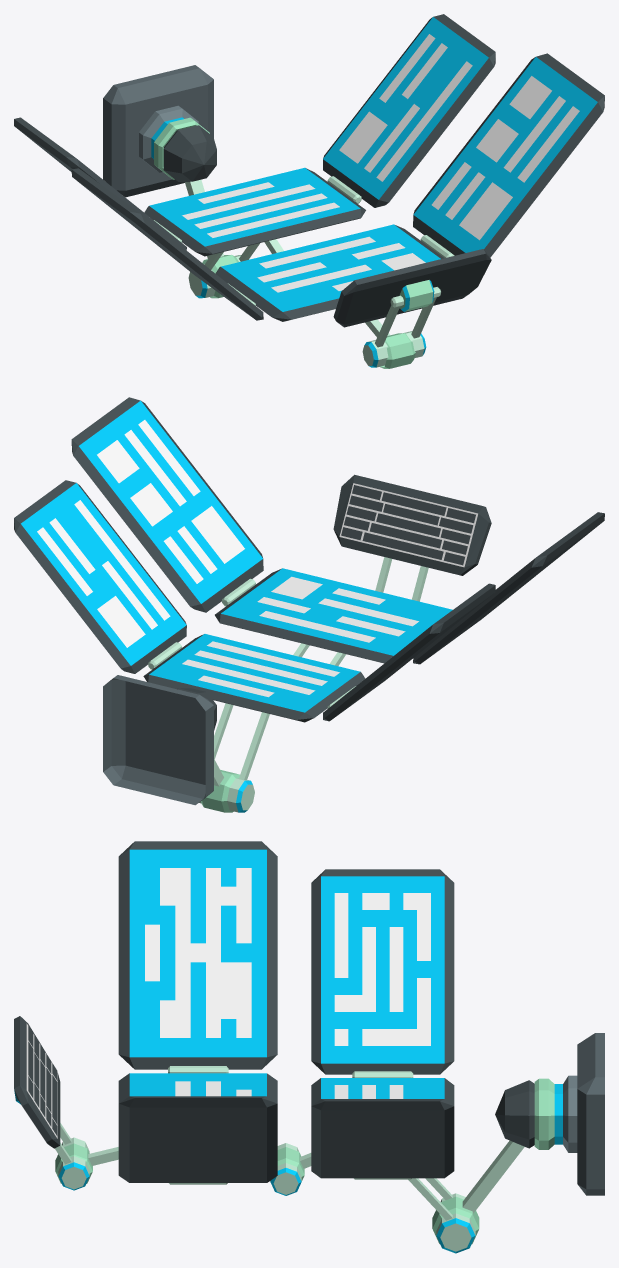
Rendered from Wall Screen 01.fbx.
3 views of the same model, one above another, from view 1: azimuth 30°, elevation 25°; view 2: azimuth 150°, elevation 25°; view 3: azimuth 270°, elevation 25° (orthographic). The views are drawn at different scales.
Visible parts, largest first — view 1: Montiors, Wall_Screen_01; view 2: Montiors, Wall_Screen_01; view 3: Montiors, Wall_Screen_01.
Boxes of the visible parts, x1,y1,x2,y2 form: Montiors: (14,14,604,368); Wall_Screen_01: (103,65,213,197); Montiors: (14,397,604,812); Wall_Screen_01: (103,675,213,805); Montiors: (14,841,534,1253); Wall_Screen_01: (534,1033,604,1195).
Bounding box in the file's own units: 214 × 107 × 208.
